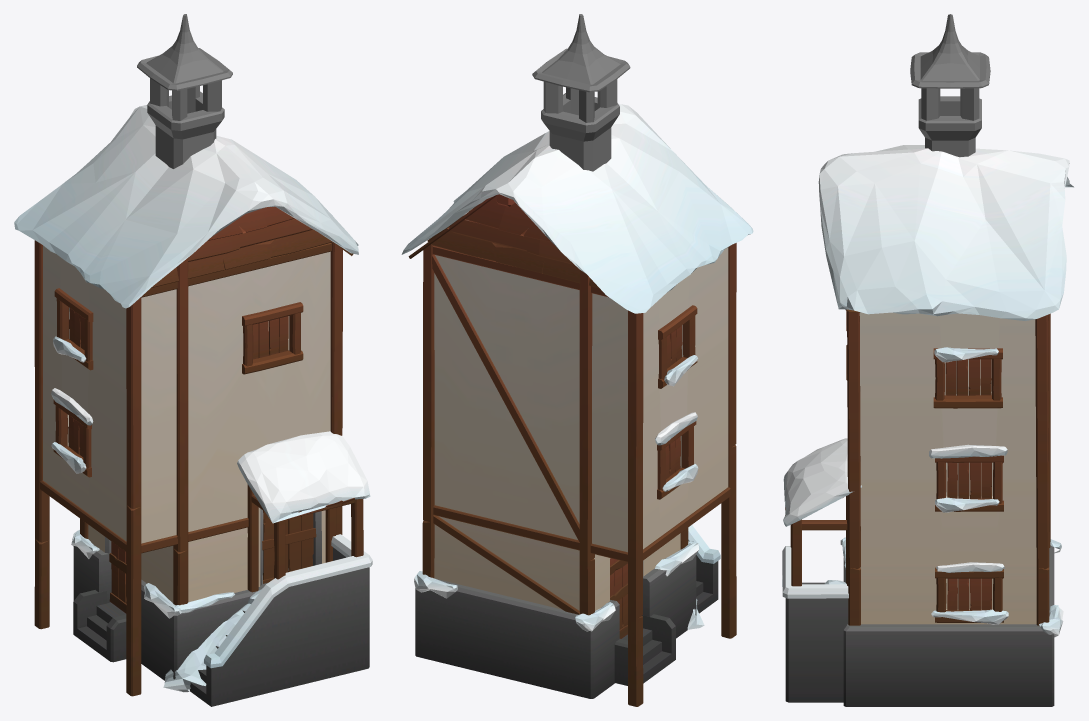
The picture shows the model from 3 angles, left to right: view 1: azimuth 30°, elevation 25°; view 2: azimuth 150°, elevation 25°; view 3: azimuth 270°, elevation 25°; orthographic projection. The views are drawn at different scales.
Parts seen in each view (by area): view 1: SnowyTownHouseTower; view 2: SnowyTownHouseTower; view 3: SnowyTownHouseTower.
Part boxes in pixels (x1,y1,x2,y2): SnowyTownHouseTower: (14,14,372,706); SnowyTownHouseTower: (401,14,753,706); SnowyTownHouseTower: (782,14,1073,706).
Bounding box in the file's own units: 190 × 450 × 187.
Materials: 2 (1 with a texture image).
